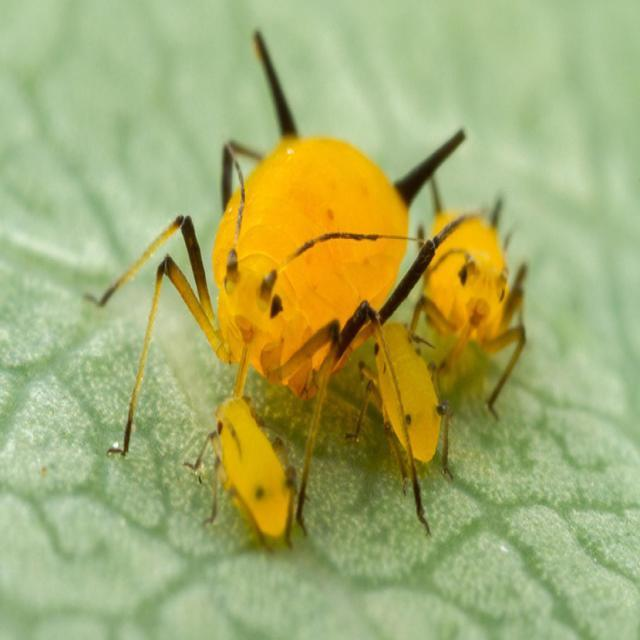aphid: (136, 112, 422, 422), (416, 200, 532, 428), (185, 390, 310, 556), (359, 320, 462, 513)
